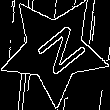N_SW: (23, 19, 85, 81)
